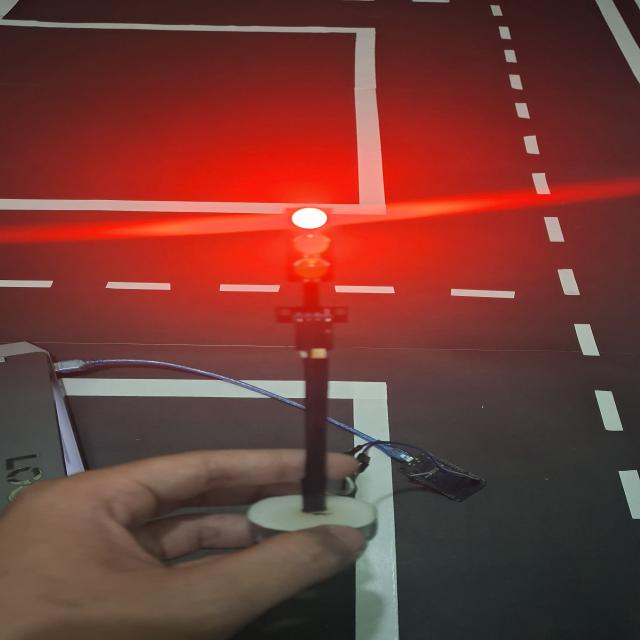Lampu Merah: (284, 206, 345, 294)
